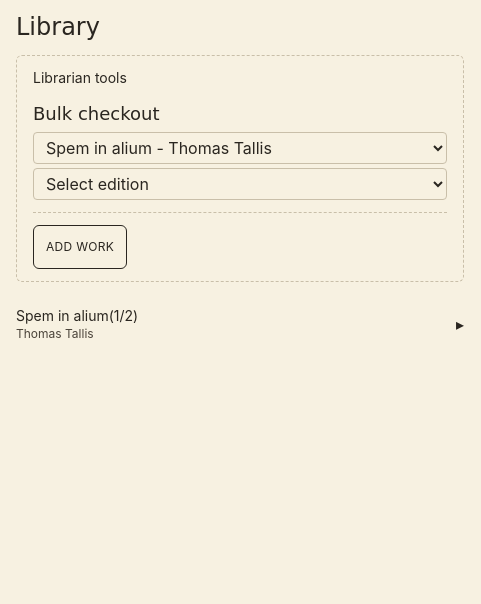
Scenario: #76 correction 9 → #207 rule 7: lending dates render as the ISO calendar date, never a raw timestamp › inline checkout picker disabled-member lending date is localized, never raw ISO
The width and height of the screenshot is (481, 604).
Click the button with test id "library-work-toggle-work-1": {"x": 62, "y": 316} [16, 306, 464, 342]
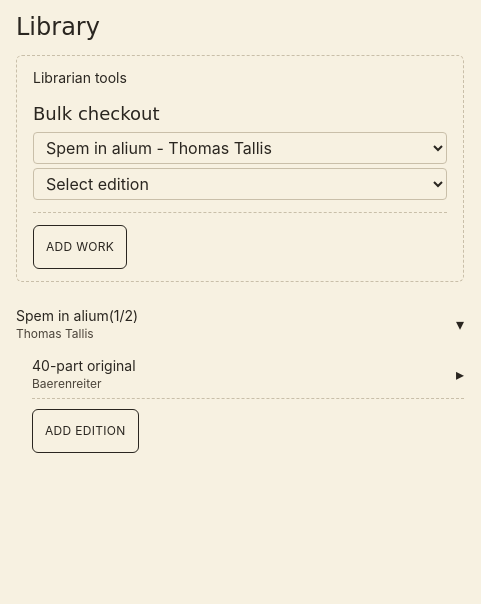
Expected: the button with test id "library-edition-toggle-edition-1" is shown
Click the button with test id "library-edition-toggle-edition-1": {"x": 84, "y": 366} [32, 356, 464, 392]
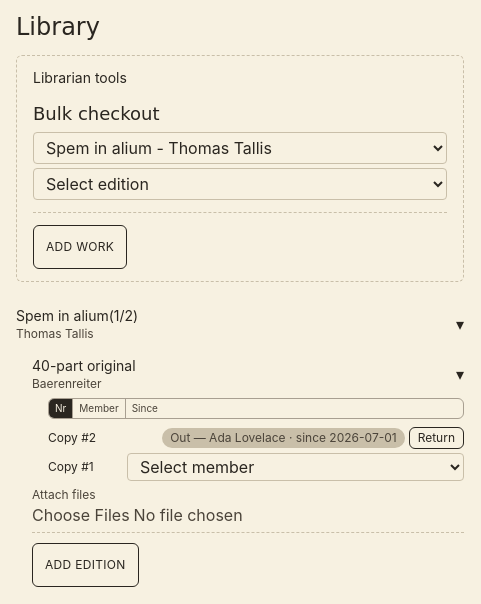
Expected: the dropdown with test id "inline-checkout-copy-1" is shown, [127, 453, 464, 481]
